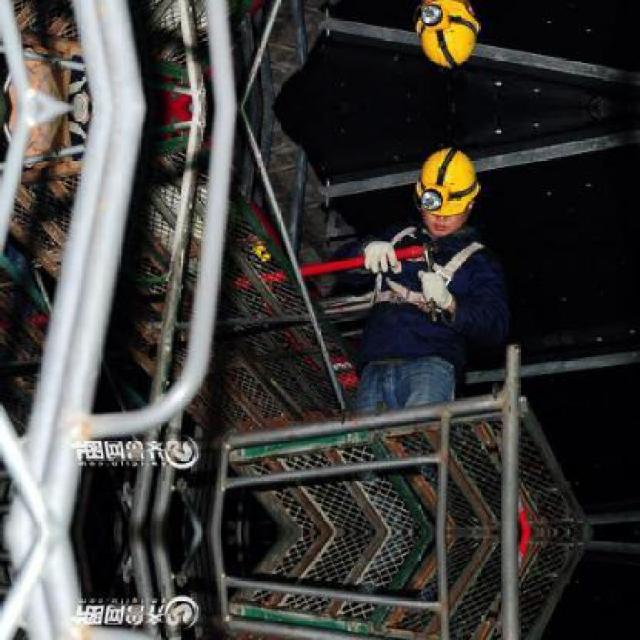Reflective-Jacket: (350, 226, 528, 334)
Safety-Helmet: (405, 140, 489, 223)
